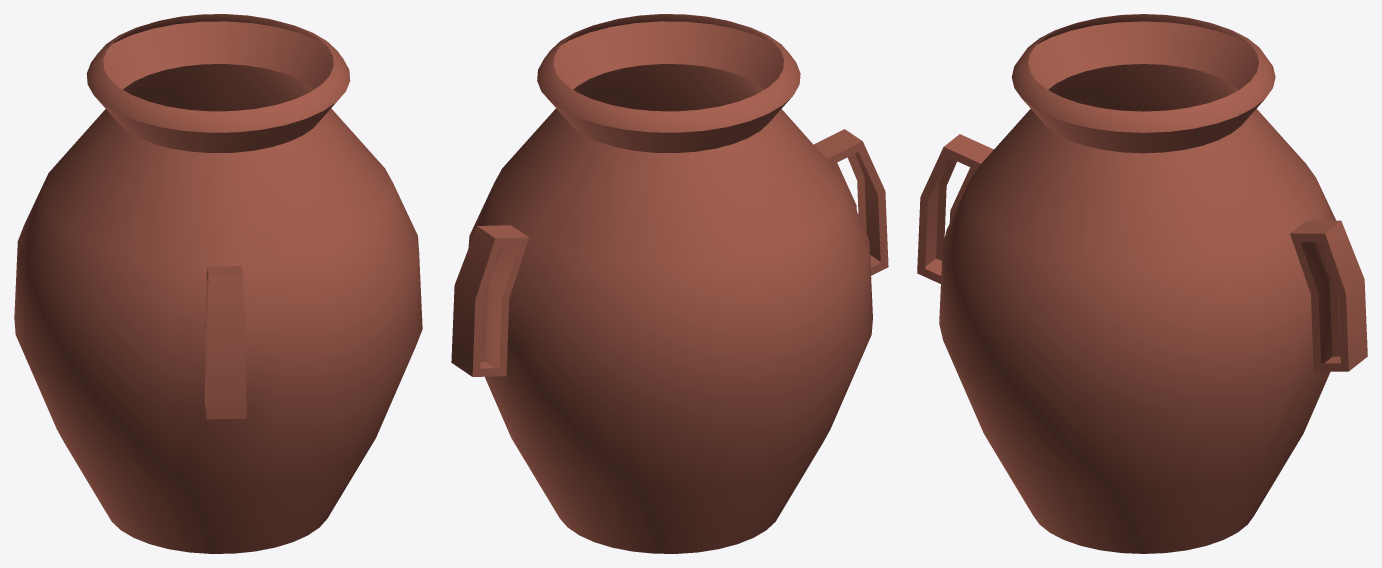
File: pot2.fbx
3 views of the same model, side by side, from view 1: azimuth 30°, elevation 25°; view 2: azimuth 150°, elevation 25°; view 3: azimuth 270°, elevation 25° (orthographic).
Visible parts, largest first — view 1: Circle; view 2: Circle; view 3: Circle.
Boxes of the visible parts, bbox=[...] form: Circle: bbox=[14, 14, 422, 553]; Circle: bbox=[451, 14, 888, 553]; Circle: bbox=[917, 14, 1367, 553].
Bounding box in the file's own units: 363 × 434 × 400.
